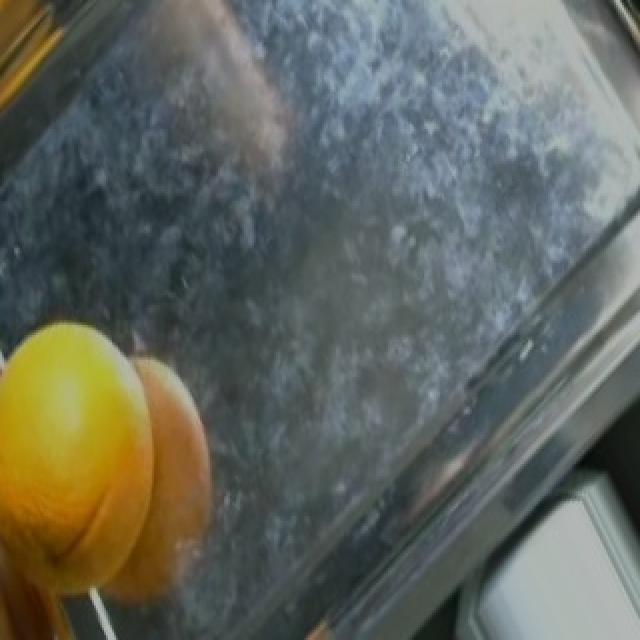Fruit: (2, 298, 176, 625), (0, 0, 92, 151)
